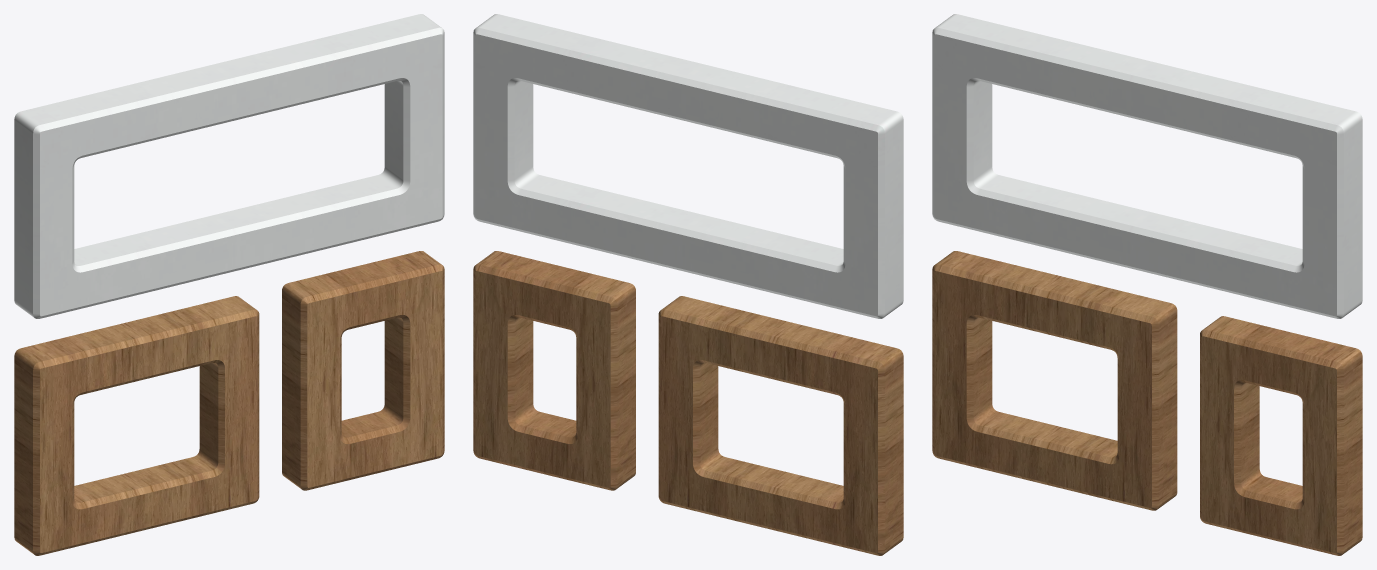
File: templates.glb
3 renders of one model, left to right at view 1: azimuth 30°, elevation 25°; view 2: azimuth 150°, elevation 25°; view 3: azimuth 330°, elevation 25°, orthographic.
Visible parts, largest first — view 1: Icon; view 2: Icon; view 3: Icon.
Part boxes in pixels (bbox=[...]): Icon: bbox=[14, 14, 444, 555]; Icon: bbox=[473, 14, 903, 555]; Icon: bbox=[932, 14, 1362, 555].
Bounding box in the file's own units: 0.2 × 0.2 × 0.02.
2 materials, 2 textured.
